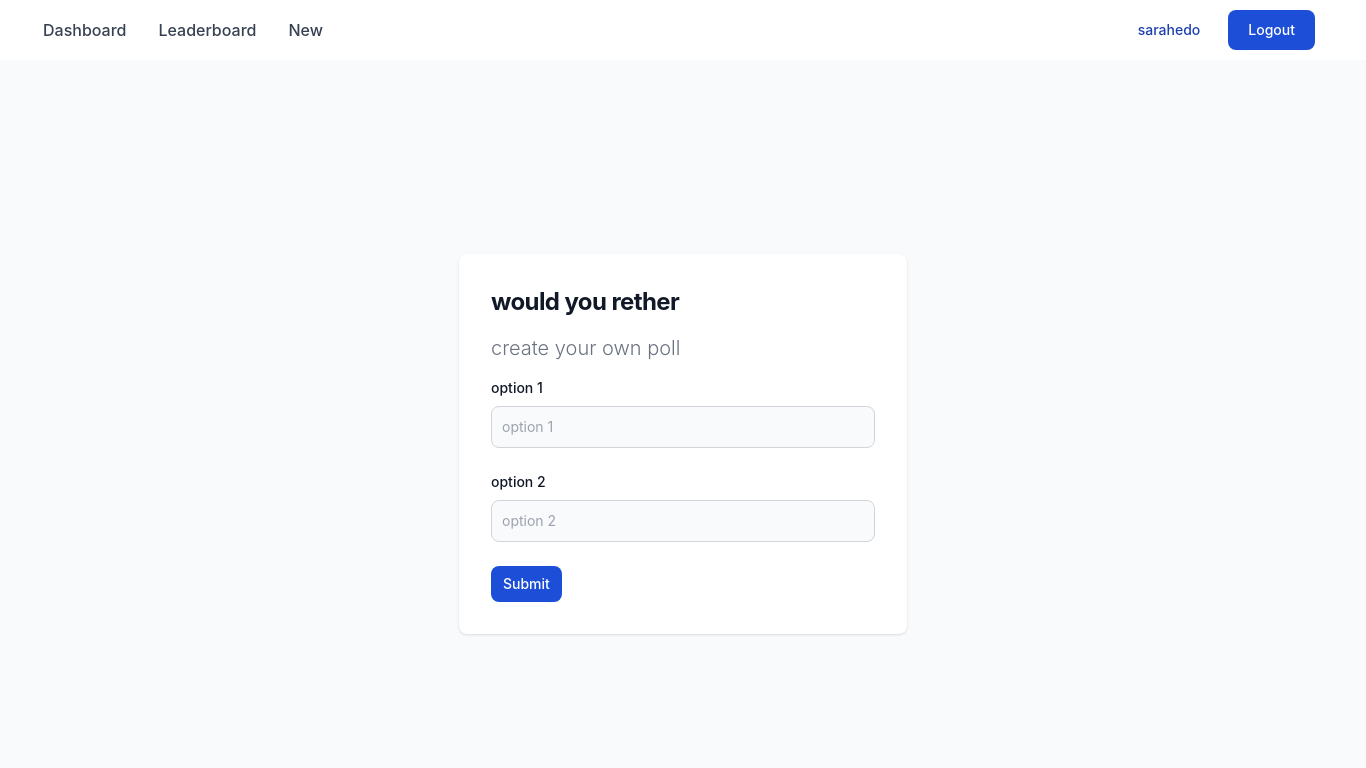
Test case: PollCreation › will display an error if the firstOption & secondOption is not provided.
This screenshot has width=1366, height=768.
Click the button with test id "submit-button".
click(526, 584)  # box [491,566,562,602]
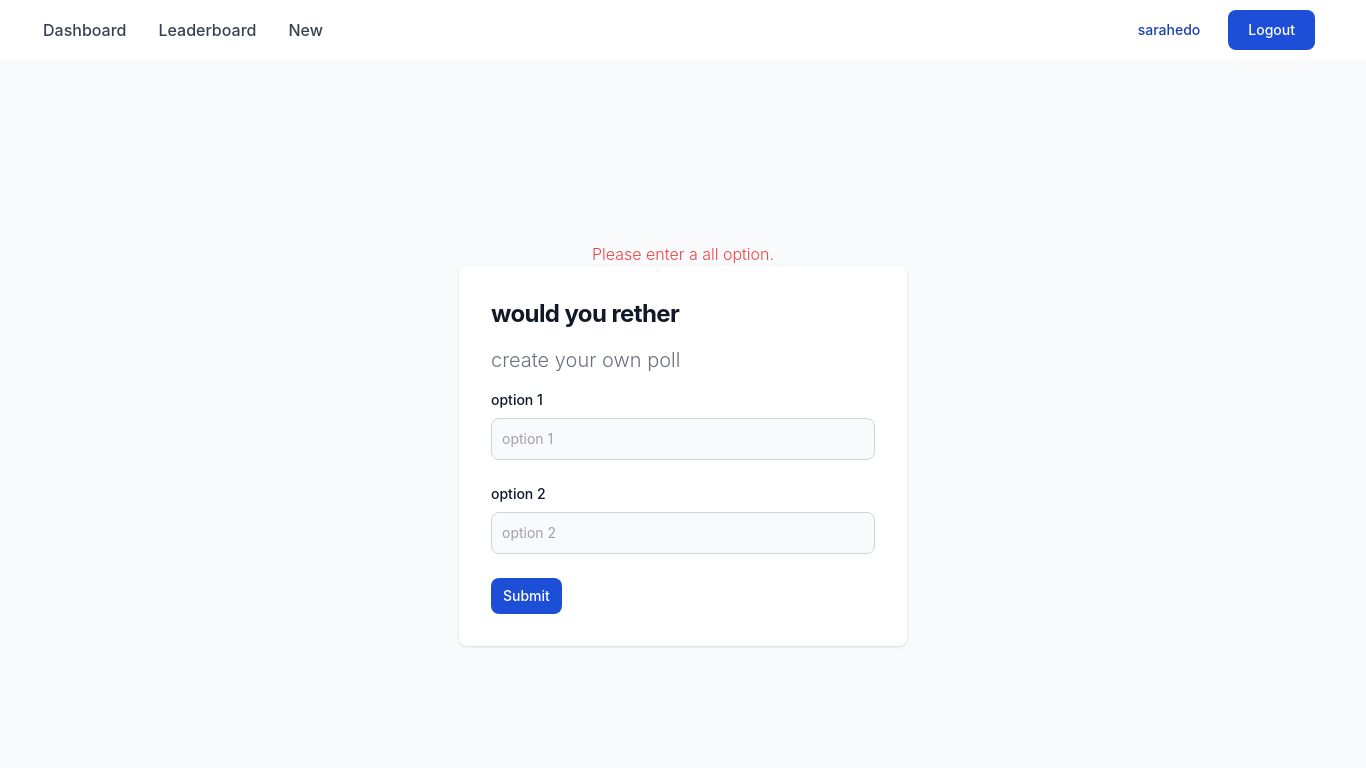
Expected: the heading "Please enter a all option." is shown, [592,242,774,266]
